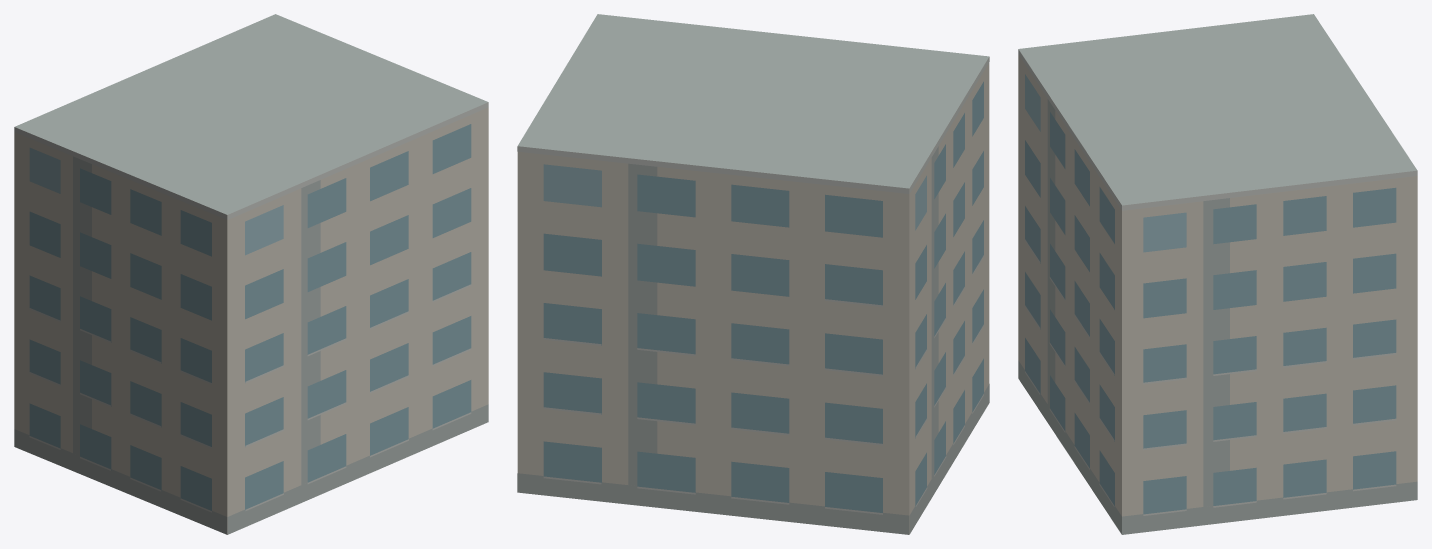
Rendered from residential-378d82c1-4d7f-484c-a852-fa007e897852.glb.
3 renders of one model, left to right at view 1: azimuth 30°, elevation 25°; view 2: azimuth 150°, elevation 25°; view 3: azimuth 270°, elevation 25°, orthographic. The views are drawn at different scales.
Visible parts, largest first — view 1: residential-378d82c1-4d7f-484c-a852-fa007e897852.tmp; view 2: residential-378d82c1-4d7f-484c-a852-fa007e897852.tmp; view 3: residential-378d82c1-4d7f-484c-a852-fa007e897852.tmp.
Boxes of the visible parts, x1,y1,x2,y2 form: residential-378d82c1-4d7f-484c-a852-fa007e897852.tmp: [14, 14, 488, 534]; residential-378d82c1-4d7f-484c-a852-fa007e897852.tmp: [517, 14, 989, 534]; residential-378d82c1-4d7f-484c-a852-fa007e897852.tmp: [1018, 14, 1417, 534].
Size of the model in its own units: 19.02 by 15.25 by 16.77.
